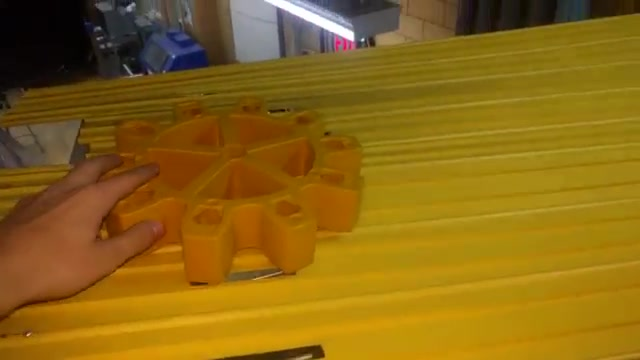gear: (80, 98, 379, 293)
